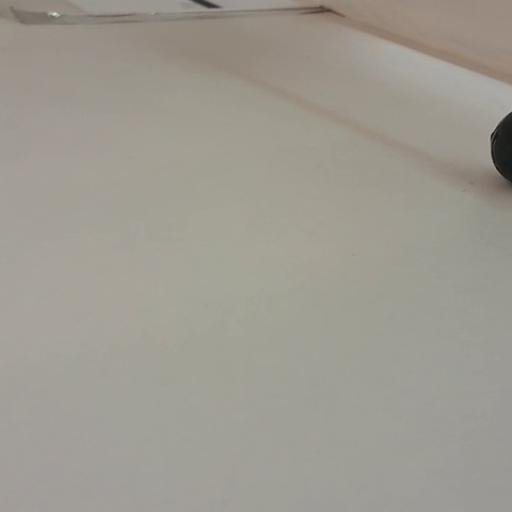dead: (487, 102, 512, 186)
